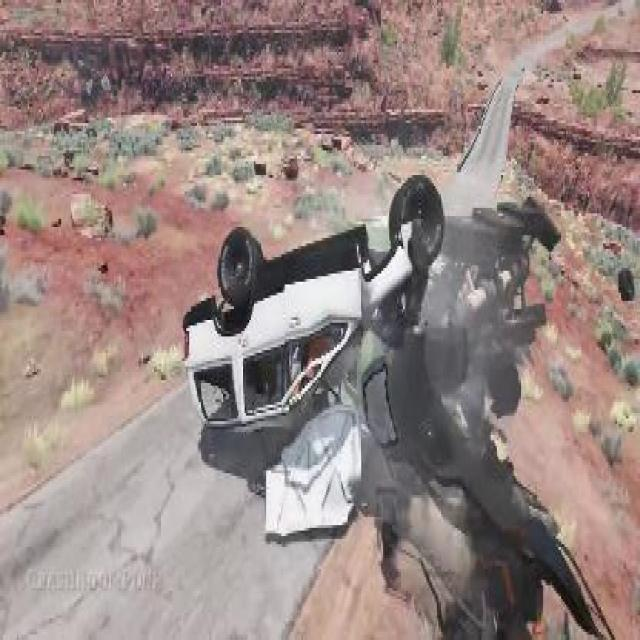accident: (175, 172, 556, 492)
